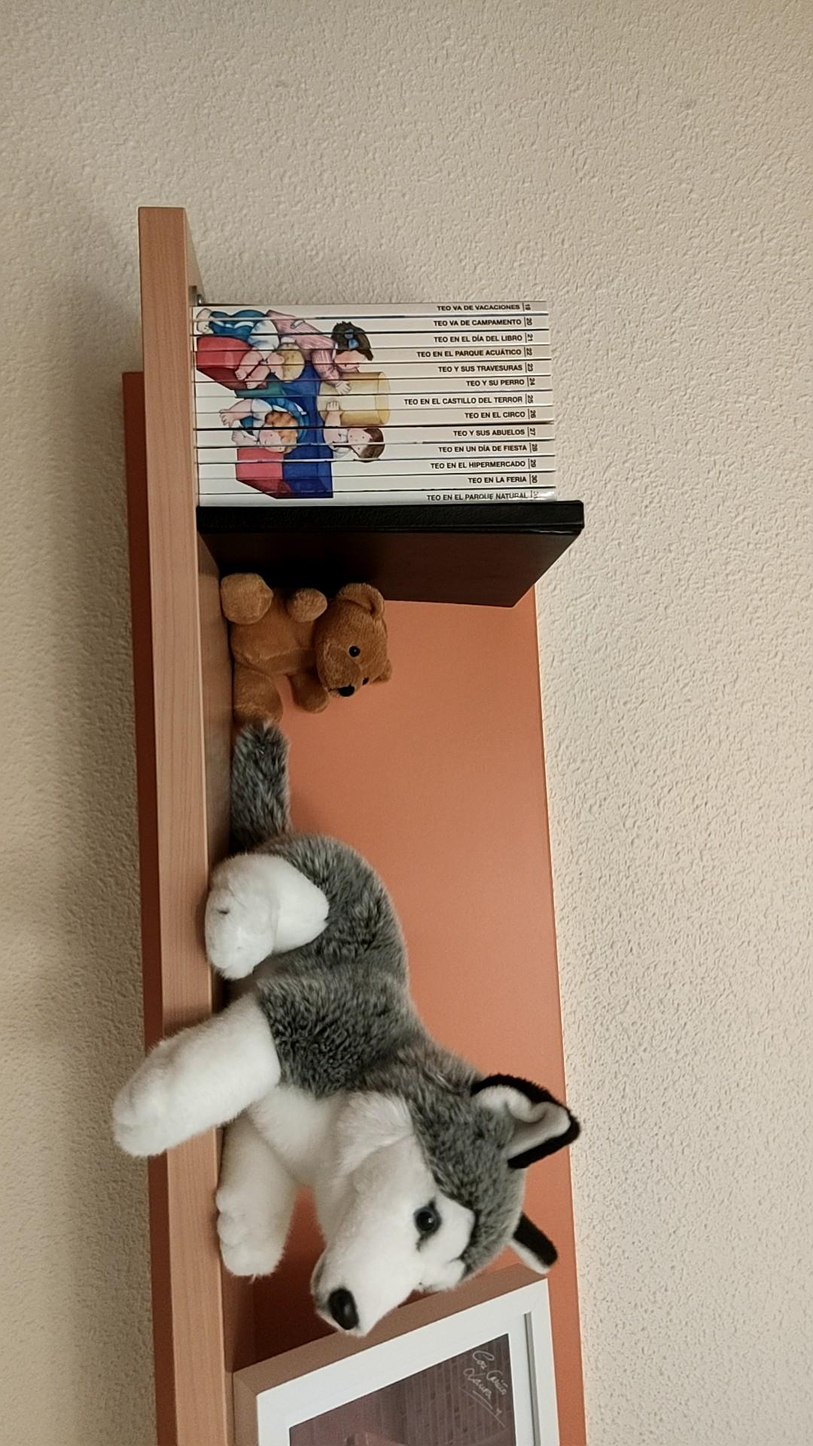book: (189, 302, 555, 511)
toy: (114, 574, 577, 1334), (220, 574, 391, 725), (221, 574, 391, 722), (384, 1166, 405, 1185)
